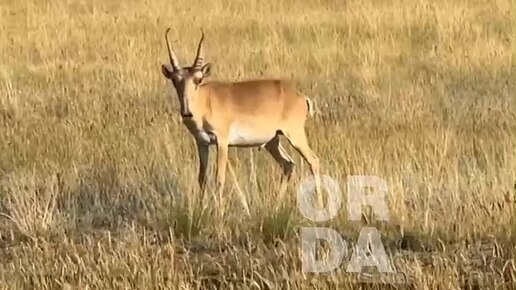saiga: (159, 27, 341, 236)
